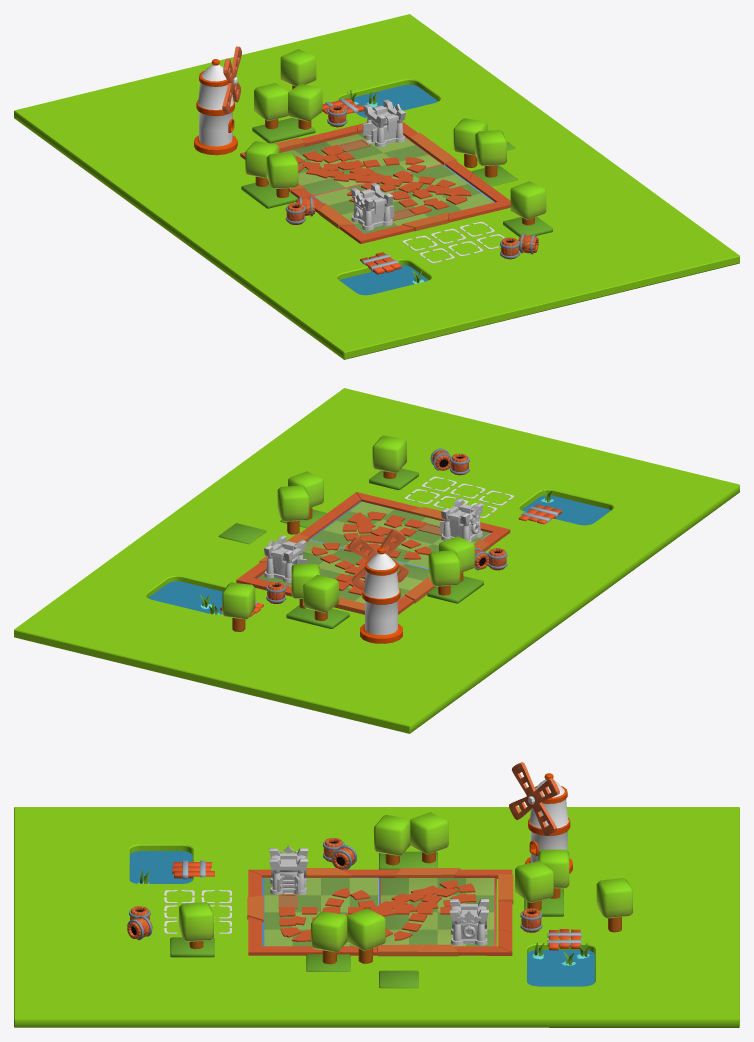
Rendered from Map2-levels.fbx.
3 renders of one model, top to bottom at view 1: azimuth 30°, elevation 25°; view 2: azimuth 150°, elevation 25°; view 3: azimuth 270°, elevation 25°, orthographic. The views are drawn at different scales.
Parts seen in each view (by area): view 1: Zemin.002, Plane.045, Plane.049, Plane.048, Cube.070, Map2-Yol5, Plane.047, Plane.046, Zemin.004, Zemin.003, Cube.063, Cube.068 (+15 smaller); view 2: Zemin.002, Plane.045, Cube.070, Plane.048, Plane.049, Map2-Yol5, Zemin.003, Plane.046, Plane.047, Cube.076, Cube.067, Cube.074 (+11 smaller); view 3: Zemin.002, Plane.045, Plane.049, Plane.048, Zemin.003, Cube.070, Map2-Yol5, Plane.046, Zemin.004, Cube.069, Plane.047, Cube.074 (+20 smaller).
Boxes of the visible parts, x1,y1,x2,y2 form: Zemin.002: [14, 14, 739, 359]; Plane.045: [240, 121, 510, 243]; Plane.049: [279, 132, 442, 196]; Plane.048: [314, 165, 494, 233]; Cube.070: [194, 59, 237, 155]; Map2-Yol5: [302, 147, 471, 212]; Plane.047: [362, 99, 405, 147]; Plane.046: [351, 183, 394, 230]; Zemin.004: [339, 265, 428, 295]; Zemin.003: [354, 84, 438, 117]; Cube.063: [510, 181, 546, 225]; Cube.068: [288, 83, 322, 129]; Zemin.002: [14, 388, 739, 733]; Plane.045: [236, 492, 510, 614]; Cube.070: [360, 547, 402, 643]; Plane.048: [309, 501, 490, 569]; Plane.049: [256, 540, 428, 603]; Map2-Yol5: [311, 511, 431, 590]; Zemin.003: [148, 581, 222, 614]; Plane.046: [440, 498, 483, 542]; Plane.047: [264, 535, 306, 582]; Cube.076: [222, 582, 255, 631]; Cube.067: [303, 575, 338, 620]; Cube.074: [277, 485, 309, 534]; Zemin.002: [14, 807, 739, 1027]; Plane.045: [247, 868, 513, 956]; Plane.049: [379, 877, 496, 946]; Plane.048: [262, 877, 379, 946]; Zemin.003: [527, 950, 594, 986]; Cube.070: [525, 773, 572, 873]; Map2-Yol5: [279, 888, 469, 941]; Plane.046: [269, 845, 308, 895]; Zemin.004: [129, 851, 192, 883]; Cube.069: [509, 762, 559, 835]; Plane.047: [449, 899, 488, 945]; Cube.074: [347, 908, 385, 963].
Size of the model in its own units: 10368 by 2597 by 14968.
